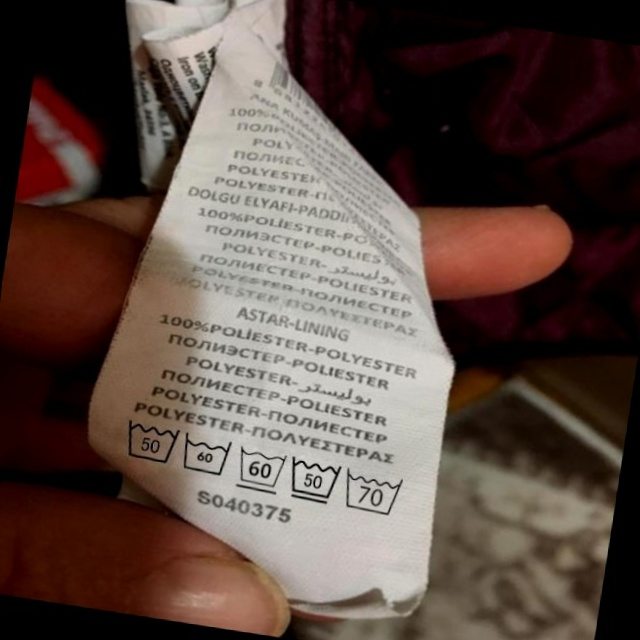50C: (116, 411, 185, 470), (283, 452, 346, 509)
60C: (232, 441, 292, 497), (177, 428, 238, 482)
70C: (340, 466, 411, 520)
